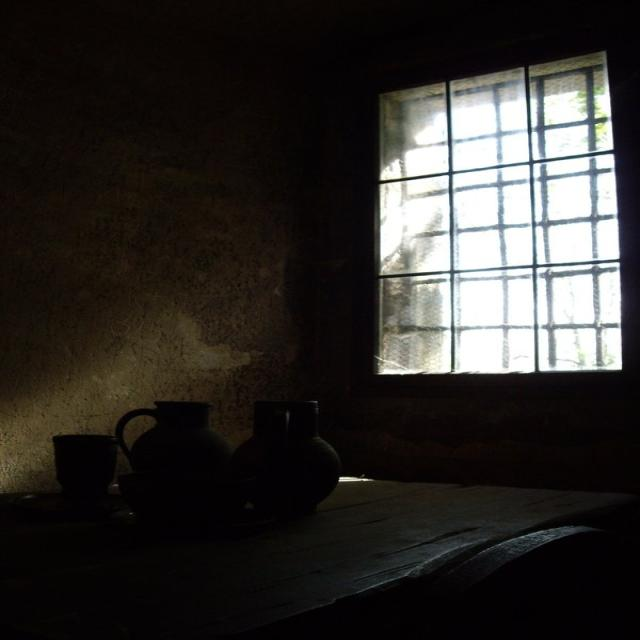Cup: (123, 388, 233, 543), (247, 387, 352, 533), (35, 399, 132, 522)
Table: (0, 431, 622, 640)
